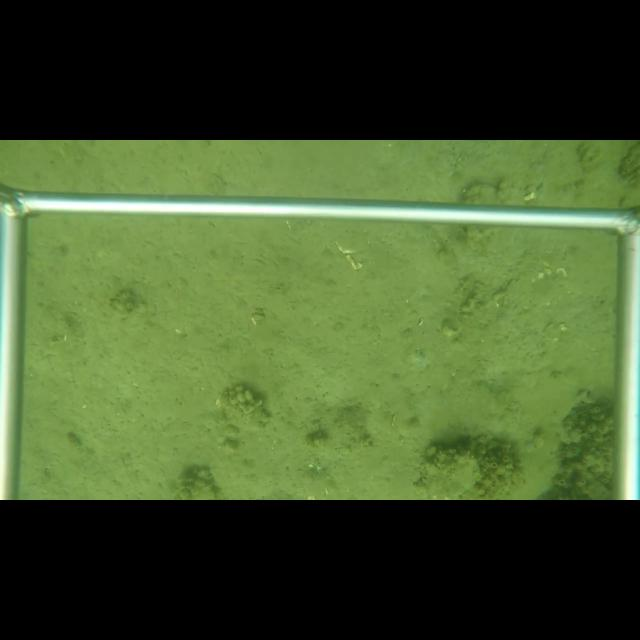Oyster-Closed: (422, 446, 482, 500), (462, 181, 506, 241)
